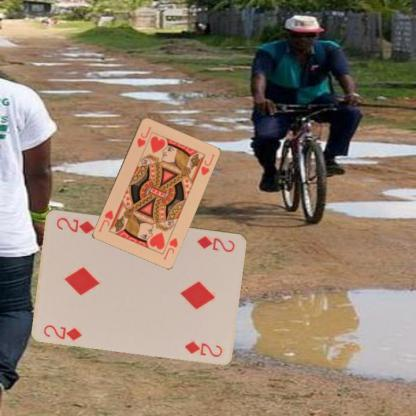2d: (41, 322, 83, 342), (195, 233, 236, 253)
Jh: (160, 231, 179, 261), (134, 124, 153, 148)
